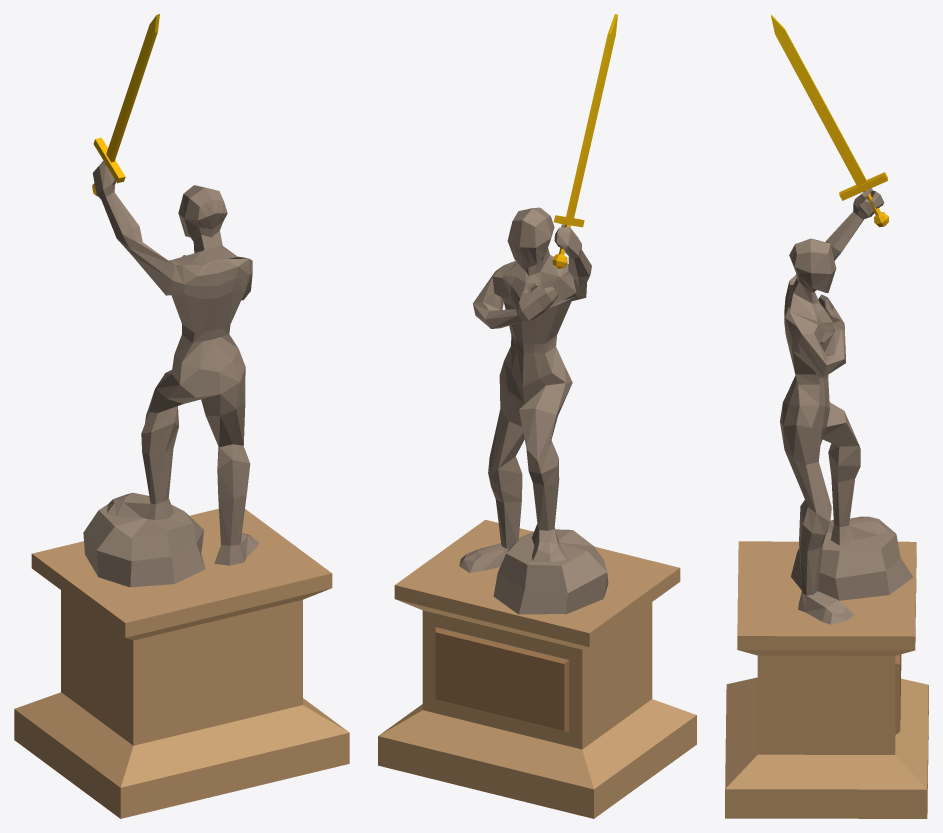
Rendered from Statue.fbx.
The picture shows the model from 3 angles, left to right: view 1: azimuth 30°, elevation 25°; view 2: azimuth 150°, elevation 25°; view 3: azimuth 270°, elevation 25°; orthographic projection. The views are drawn at different scales.
Visible parts, largest first — view 1: Statue; view 2: Statue; view 3: Statue.
Part boxes in pixels (bbox=[...]): Statue: bbox=[14, 14, 349, 818]; Statue: bbox=[378, 14, 696, 818]; Statue: bbox=[725, 14, 928, 818].
Bounding box in the file's own units: 385 × 1238 × 314.
